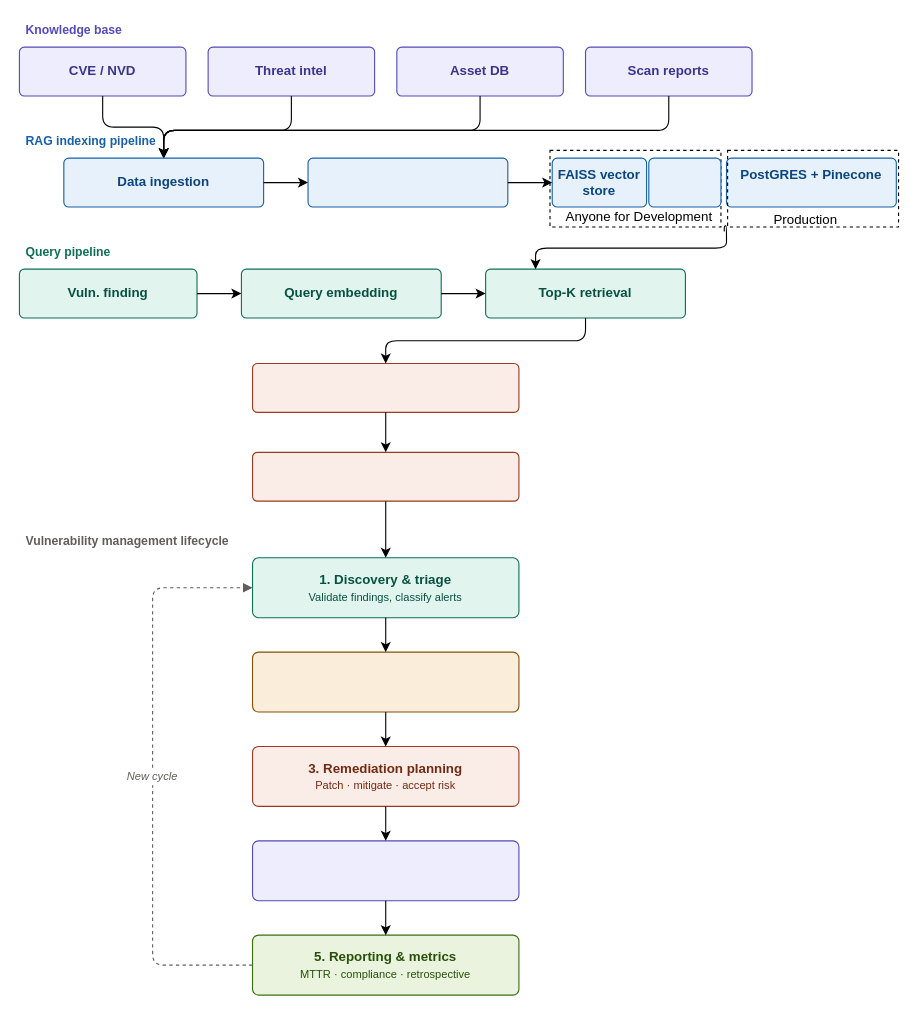
Image size: 918x1015. Some labels were removed from this diagram. Each missing label, with the centre of its shape:
2. Risk assessment CVSS · criticality · exploitability: (x=385, y=681)
4. Verification Re-scan and validate patch success: (x=385, y=870)
Context builder: (x=385, y=387)
Embedding generation: (x=407, y=182)
LLM analysis: (x=385, y=476)
PgVector: (x=684, y=182)
